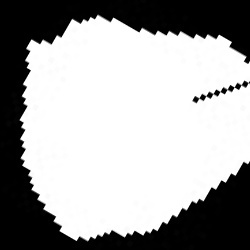spot: (19, 15, 248, 240)
